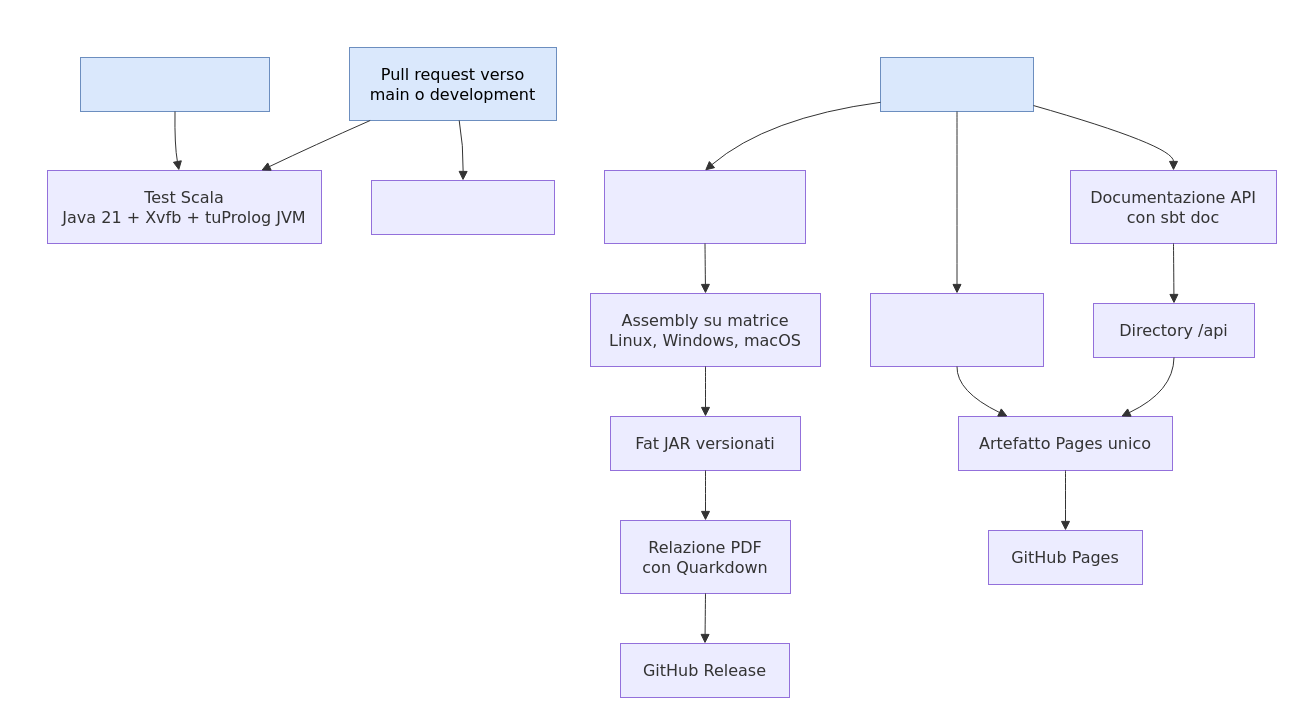
Image size: 1294x715. Some labels were removed from this diagram. The centre of each missing label's shape, as x and y in pixels:
Push su main: the point at 957,84
Push su un branch: the point at 175,84
Relazione HTML con Quarkdown: the point at 957,329
scalafmtCheckAll: the point at 462,207
Verifica incremento release_version: the point at 705,207
